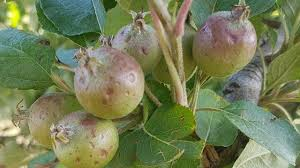damaged_apple: (71, 46, 145, 118), (191, 14, 260, 79), (50, 111, 119, 166), (109, 20, 166, 75)
